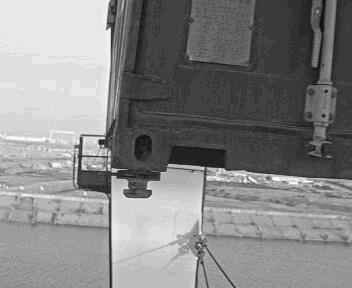twist_lock_1: (109, 165, 165, 204)
